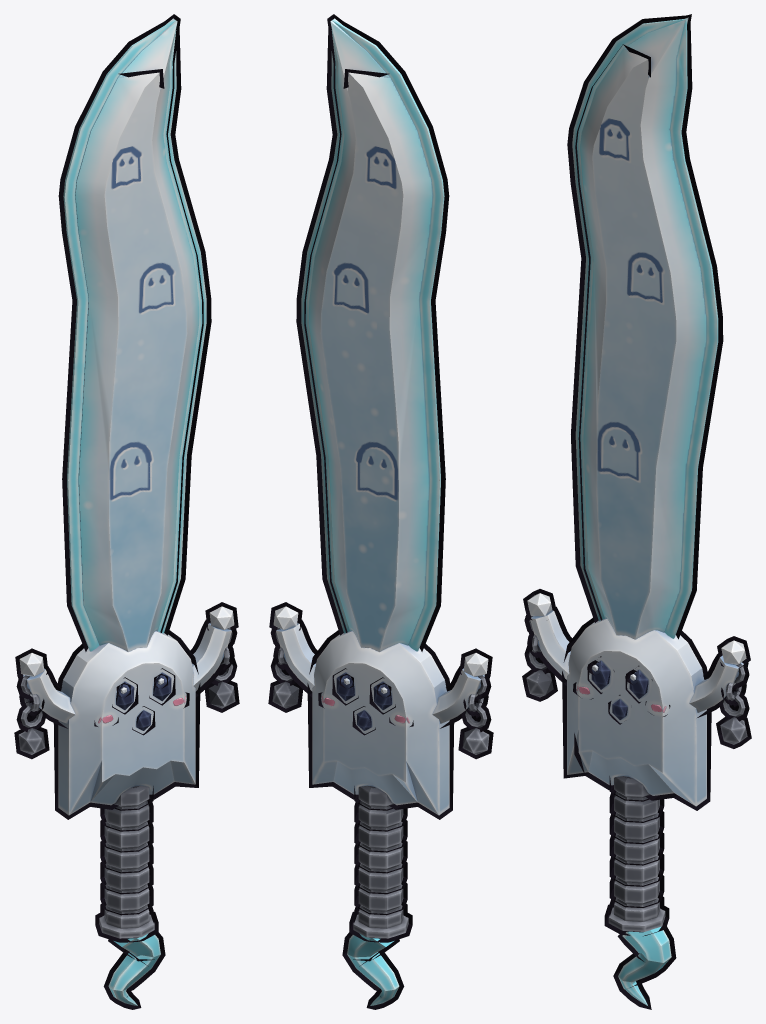
File: GhostSword.fbx
3 views of the same model, side by side, from view 1: azimuth 30°, elevation 25°; view 2: azimuth 150°, elevation 25°; view 3: azimuth 330°, elevation 25° (orthographic). The views are drawn at different scales.
Parts seen in each view (by area): view 1: GhostSword, GhostSwordOutline, GhostSwordGhostGlow; view 2: GhostSword, GhostSwordOutline, GhostSwordGhostGlow; view 3: GhostSword, GhostSwordOutline, GhostSwordGhostGlow.
Boxes of the visible parts, left/top/right/bottom form: GhostSword: left=18, top=18, right=235, bottom=938; GhostSwordOutline: left=14, top=14, right=239, bottom=1009; GhostSwordGhostGlow: left=63, top=19, right=206, bottom=1005; GhostSword: left=272, top=18, right=489, bottom=938; GhostSwordOutline: left=268, top=14, right=493, bottom=1009; GhostSwordGhostGlow: left=301, top=19, right=444, bottom=1005; GhostSword: left=526, top=17, right=747, bottom=931; GhostSwordOutline: left=522, top=14, right=751, bottom=1009; GhostSwordGhostGlow: left=572, top=18, right=718, bottom=1005.
Size of the model in its own units: 118 by 504 by 40.79.
2 materials, 1 textured.
